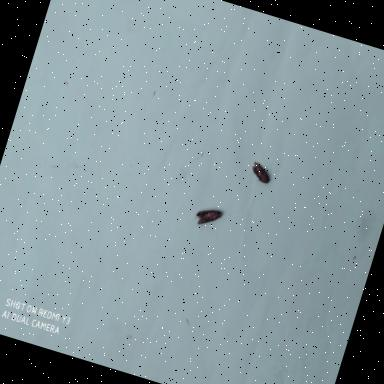pbw: (189, 200, 226, 233), (246, 154, 277, 188)
